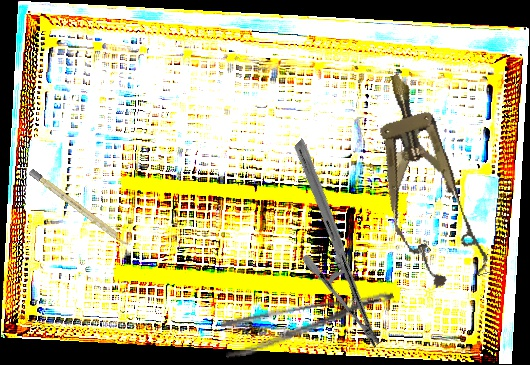Dressing Forceps: (219, 289, 400, 359)
Needle Holder: (227, 138, 448, 350)
Scalpel Handle: (28, 168, 132, 249)
Speculum: (354, 63, 495, 295)
